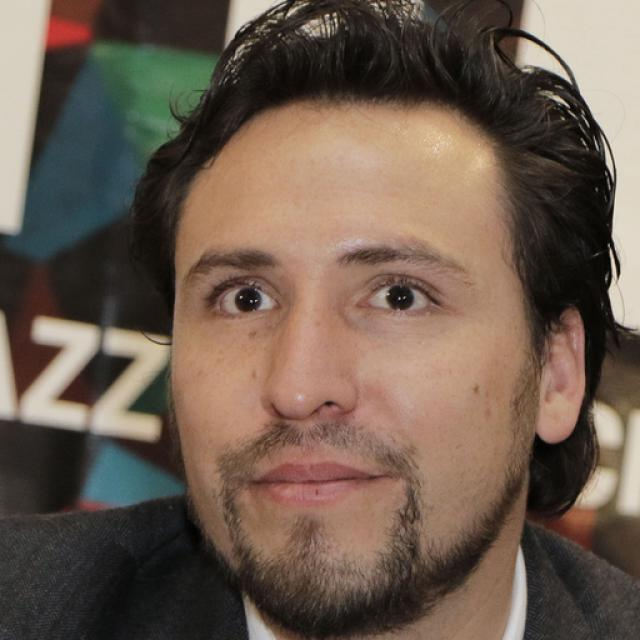Acne: (243, 362, 262, 387), (464, 379, 483, 400)
